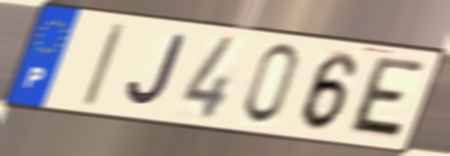0: (240, 41, 301, 129)
4: (178, 35, 236, 123)
6: (300, 49, 362, 135)
E: (343, 53, 429, 144)
I: (79, 21, 129, 110)
J: (124, 32, 189, 112)
